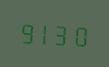nine: (18, 18, 35, 45)
one: (36, 19, 53, 46)
three: (54, 20, 71, 47)
zero: (72, 20, 89, 48)
